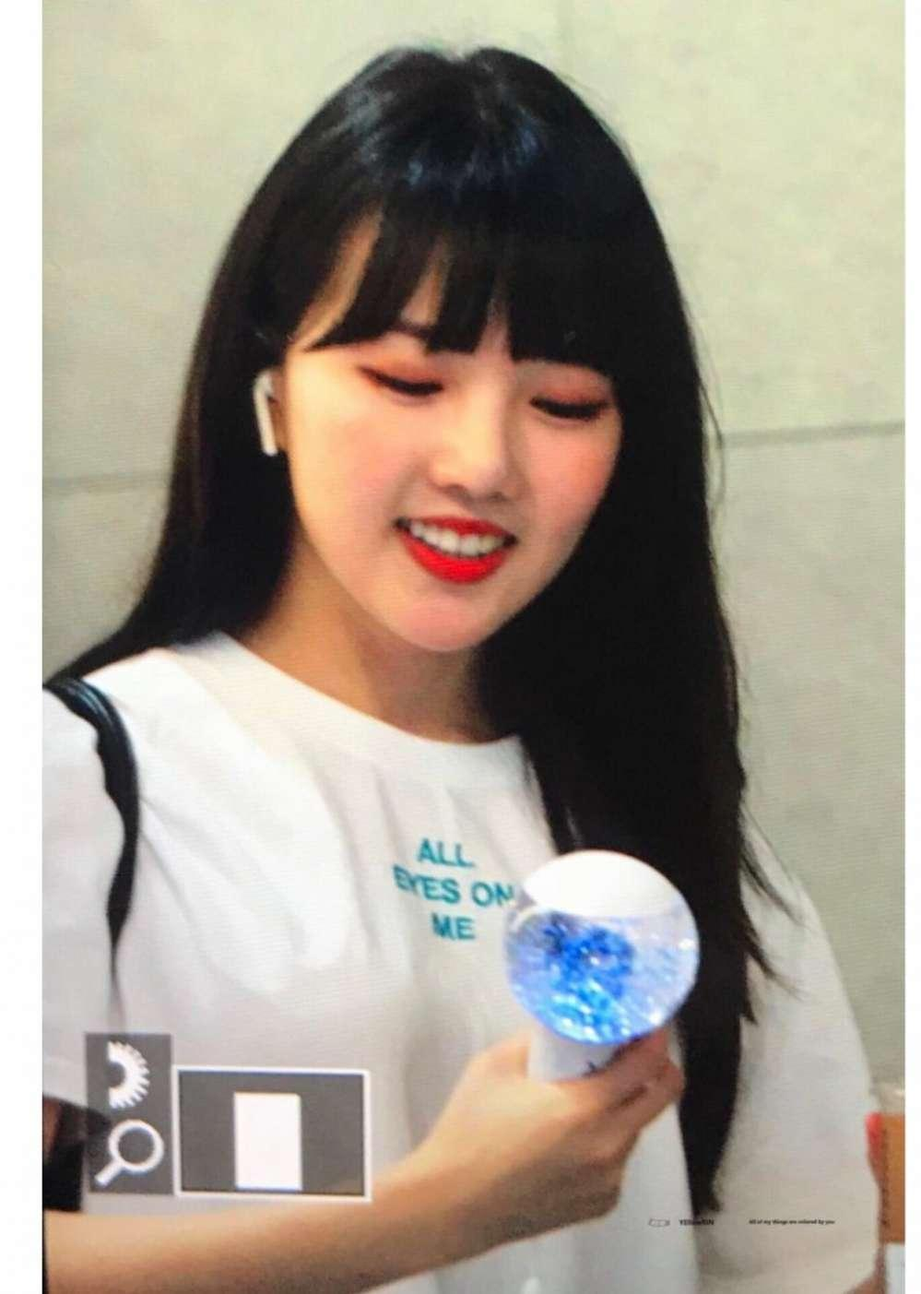earphone: (227, 344, 297, 459)
